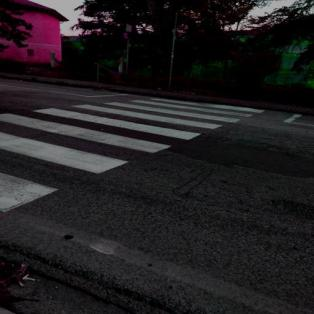Paso de Cebra: (30, 103, 224, 142)
